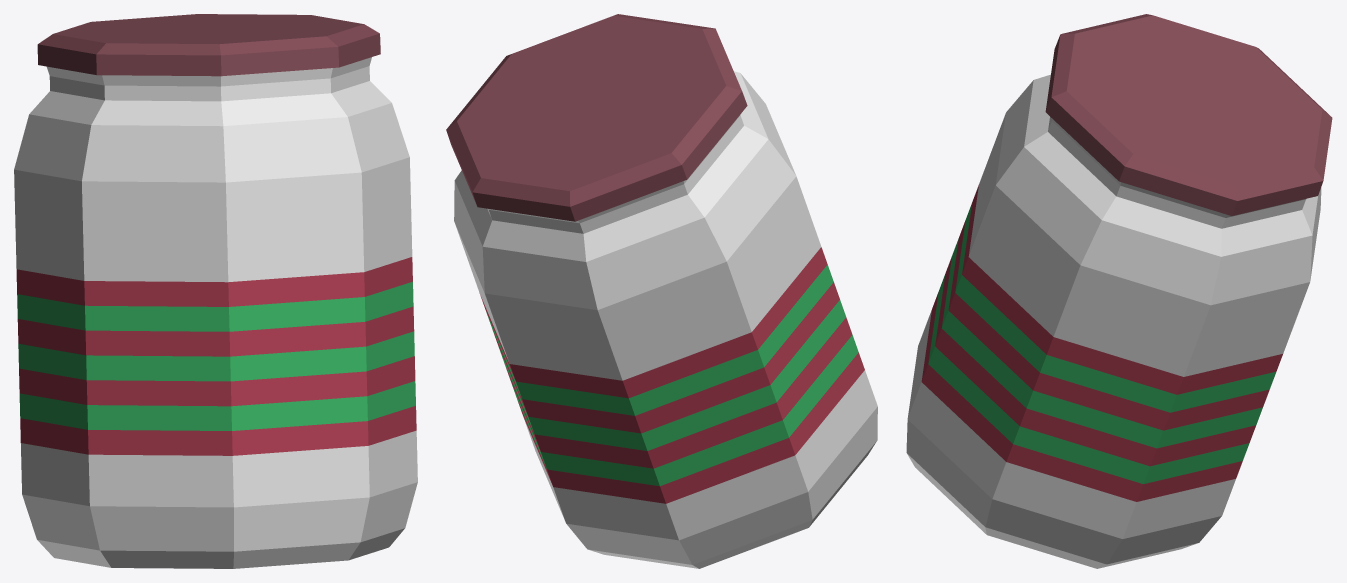
The model's file is Peppermint.fbx.
3 views of the same model, side by side, from view 1: azimuth 30°, elevation 25°; view 2: azimuth 150°, elevation 25°; view 3: azimuth 270°, elevation 25° (orthographic). The views are drawn at different scales.
Parts seen in each view (by area): view 1: Peppermint; view 2: Peppermint; view 3: Peppermint.
Boxes of the visible parts, left/top/right/bottom form: Peppermint: left=14, top=14, right=417, bottom=568; Peppermint: left=446, top=14, right=877, bottom=568; Peppermint: left=906, top=14, right=1332, bottom=568.
Size of the model in its own units: 83.46 by 122 by 95.02.
